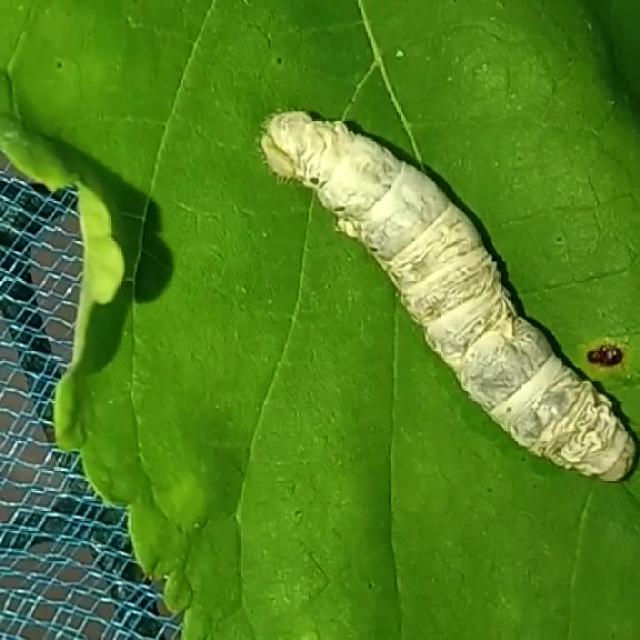Grasserie: (250, 77, 640, 507)
